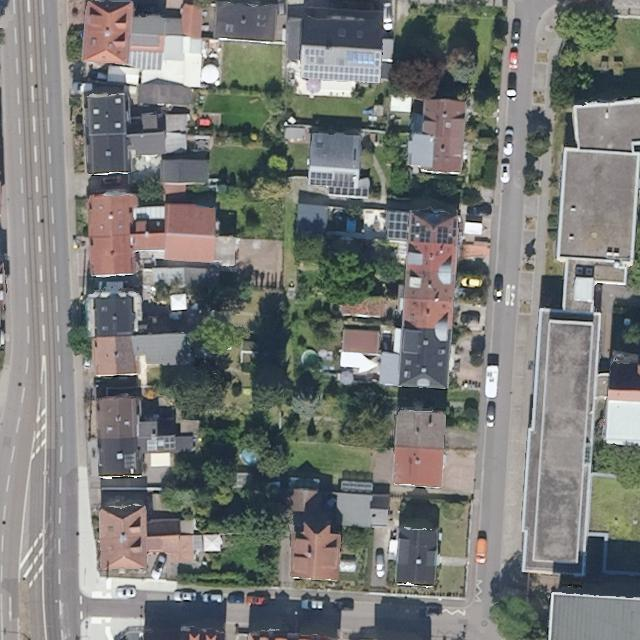PV: (300, 45, 382, 84), (305, 170, 369, 199), (409, 213, 432, 243), (436, 218, 459, 246), (387, 210, 409, 239), (163, 434, 178, 450)
